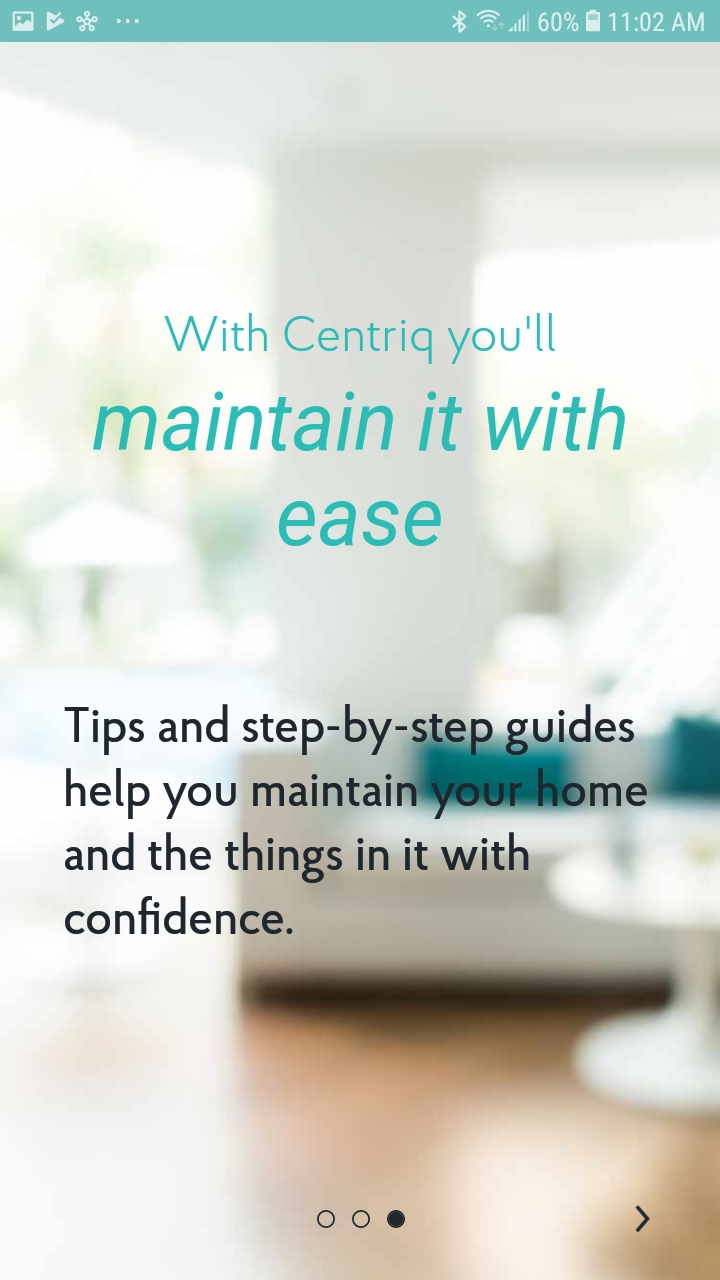BackgroundImage: (1, 43, 719, 1280)
Icon: (635, 1205, 650, 1232)
PageIndicator: (317, 1209, 406, 1229)
Text: (63, 702, 647, 936), (93, 388, 626, 548), (165, 313, 556, 366)
UpperTaskBar: (1, 1, 720, 43)
